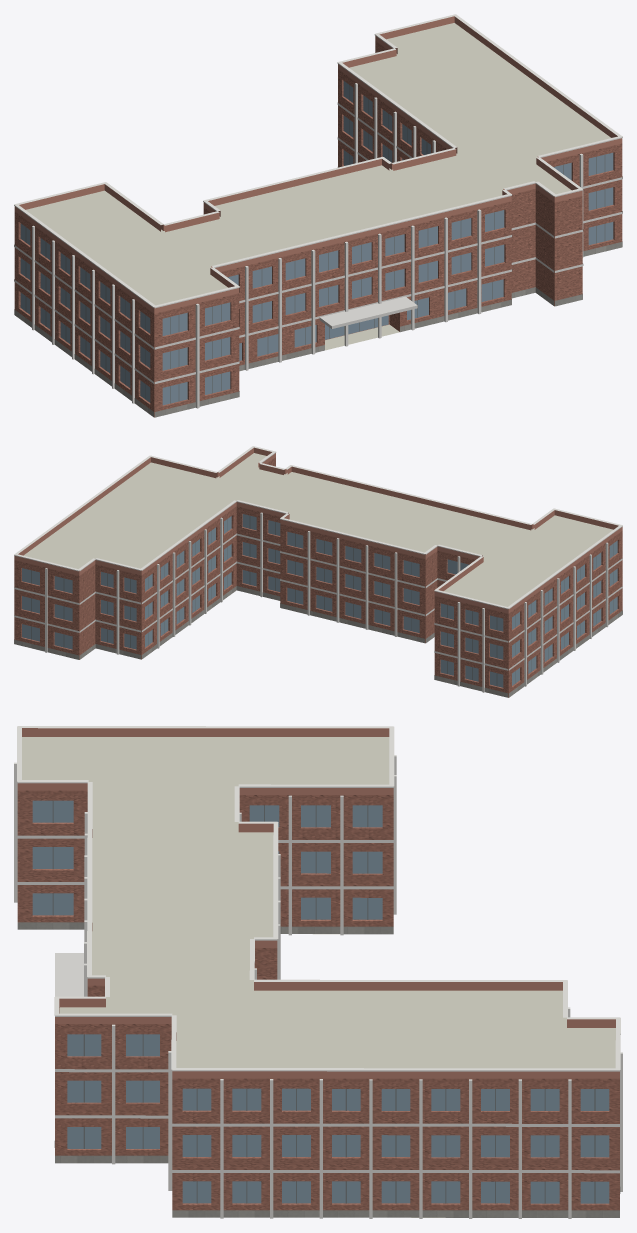
3 renders of one model, top to bottom at view 1: azimuth 30°, elevation 25°; view 2: azimuth 150°, elevation 25°; view 3: azimuth 270°, elevation 25°, orthographic. The views are drawn at different scales.
Parts seen in each view (by area): view 1: jeonnong__roof, jeonnong__wall, jeonnong__glass, jeonnong__trim, jeonnong__parapet, jeonnong__base, jeonnong__frame, jeonnong__canopy; view 2: jeonnong__wall, jeonnong__roof, jeonnong__glass, jeonnong__trim, jeonnong__parapet, jeonnong__base, jeonnong__frame; view 3: jeonnong__roof, jeonnong__wall, jeonnong__glass, jeonnong__trim, jeonnong__parapet, jeonnong__base, jeonnong__frame, jeonnong__canopy.
Part boxes in pixels (x1,y1,x2,y2): jeonnong__roof: [26, 23, 610, 350]; jeonnong__wall: [14, 41, 622, 417]; jeonnong__glass: [20, 81, 613, 405]; jeonnong__trim: [14, 14, 622, 408]; jeonnong__parapet: [14, 16, 622, 313]; jeonnong__base: [14, 167, 622, 417]; jeonnong__frame: [25, 85, 605, 403]; jeonnong__canopy: [319, 296, 417, 328]; jeonnong__wall: [14, 457, 622, 697]; jeonnong__roof: [24, 453, 613, 697]; jeonnong__glass: [22, 514, 617, 687]; jeonnong__trim: [14, 446, 622, 692]; jeonnong__parapet: [14, 447, 622, 613]; jeonnong__base: [14, 585, 622, 697]; jeonnong__frame: [31, 516, 613, 686]; jeonnong__roof: [22, 737, 615, 1217]; jeonnong__wall: [17, 790, 619, 1210]; jeonnong__glass: [32, 800, 609, 1203]; jeonnong__trim: [14, 726, 622, 1218]; jeonnong__parapet: [17, 728, 619, 1078]; jeonnong__base: [17, 922, 620, 1217]; jeonnong__frame: [52, 800, 595, 1203]; jeonnong__canopy: [55, 953, 83, 996].
Bounding box in the file's own units: 59.33 × 11.82 × 44.11.
Materials: 9 (2 with a texture image).
